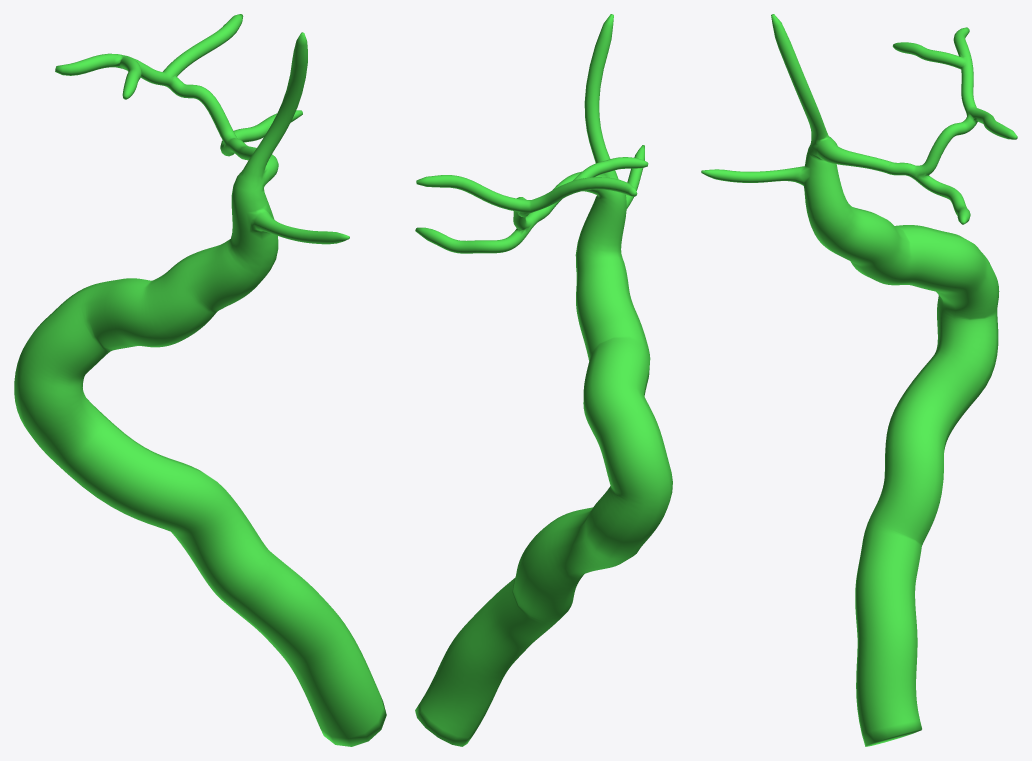
The model's file is inner.fbx.
3 renders of one model, left to right at view 1: azimuth 30°, elevation 25°; view 2: azimuth 150°, elevation 25°; view 3: azimuth 270°, elevation 25°, orthographic. The views are drawn at different scales.
Visible parts, largest first — view 1: inner.001; view 2: inner.001; view 3: inner.001.
Boxes of the visible parts, left/top/right/bottom form: inner.001: left=14, top=14, right=386, bottom=746; inner.001: left=415, top=14, right=672, bottom=746; inner.001: left=701, top=14, right=1017, bottom=746.
Size of the model in its own units: 4069 by 9516 by 3972.
